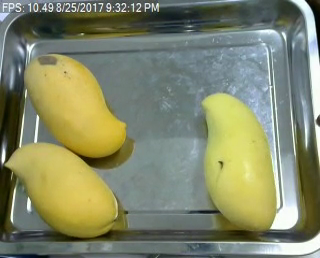Mango: (4, 143, 119, 239), (23, 52, 125, 156), (200, 92, 276, 231)
